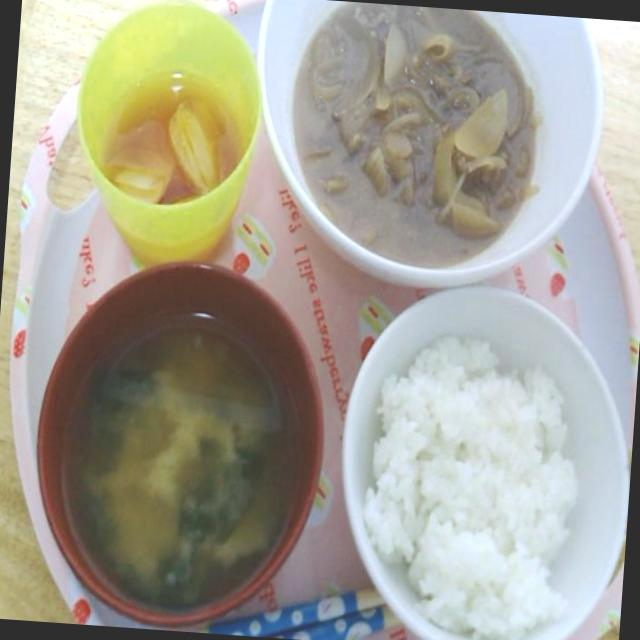Rice: (343, 334, 591, 640)
